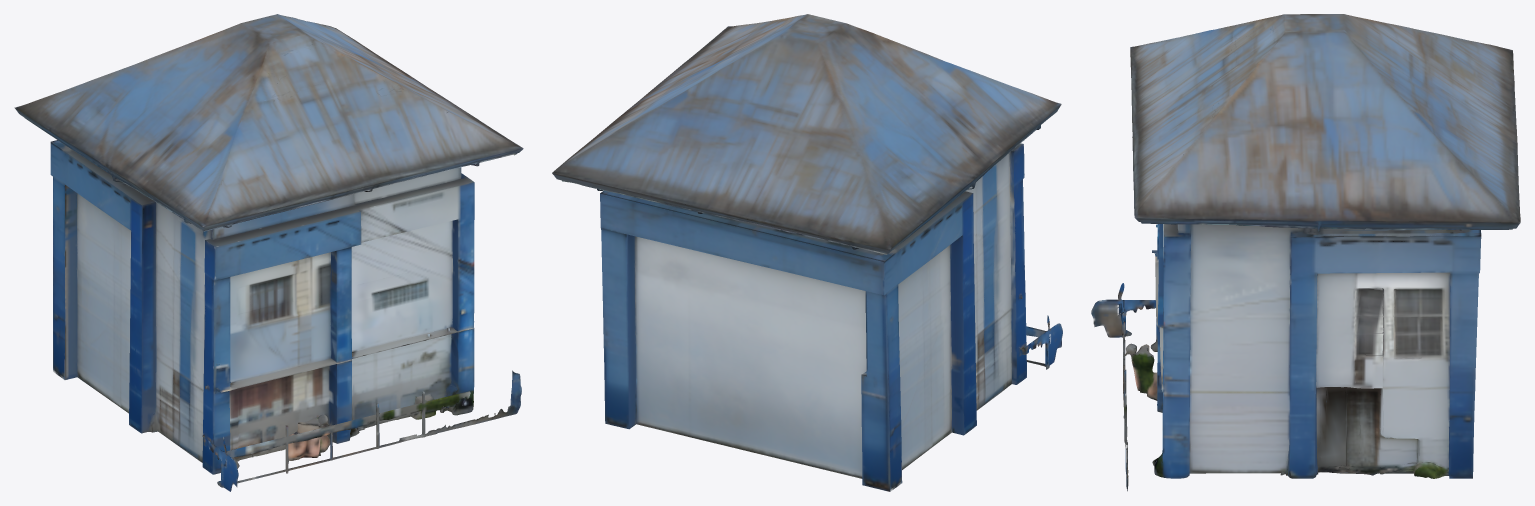
The model's file is base_basic_shaded.fbx.
3 views of the same model, side by side, from view 1: azimuth 30°, elevation 25°; view 2: azimuth 150°, elevation 25°; view 3: azimuth 270°, elevation 25° (orthographic). The views are drawn at different scales.
Visible parts, largest first — view 1: model; view 2: model; view 3: model.
Boxes of the visible parts, x1,y1,x2,y2 form: model: [14, 14, 523, 491]; model: [552, 14, 1062, 491]; model: [1091, 14, 1520, 491].
Size of the model in its own units: 183 by 190 by 190.
